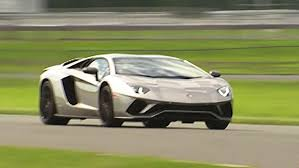Lamborghini: (40, 53, 231, 126)
